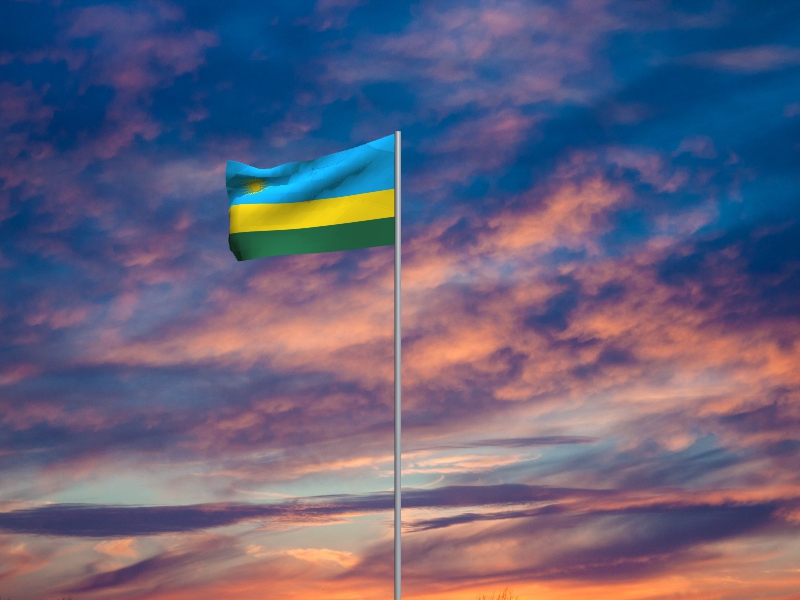rw: (225, 134, 395, 263)
